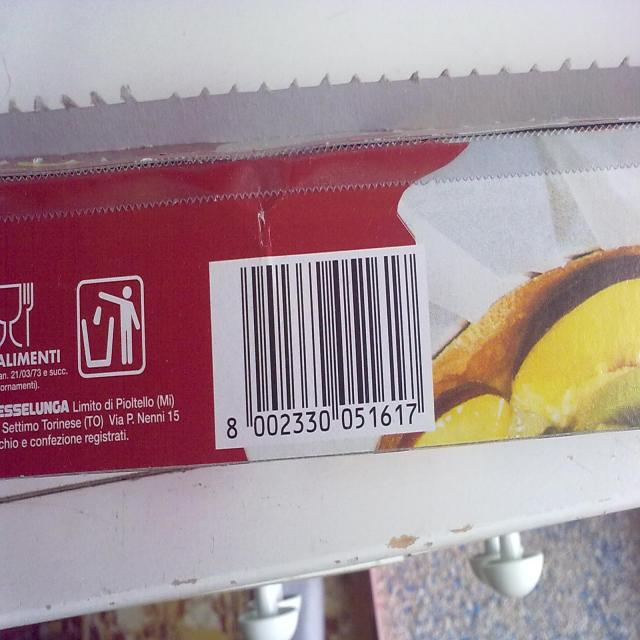barcode: (209, 245, 434, 458)
